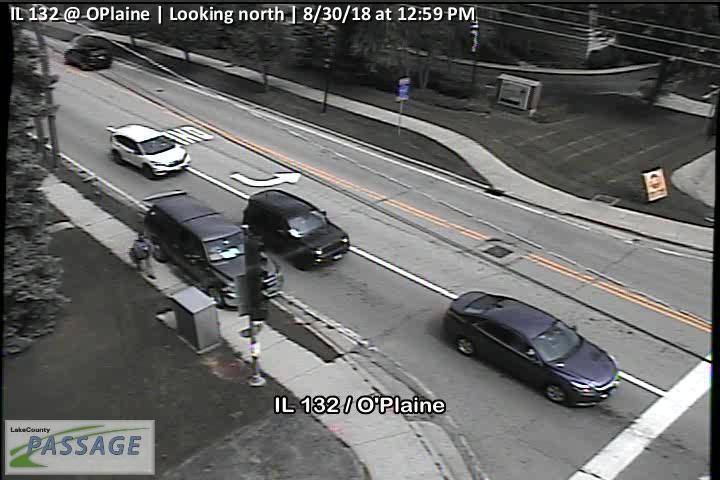SUV: (143, 194, 285, 311), (240, 189, 351, 271), (110, 125, 191, 181), (63, 39, 113, 71)
Sedan: (443, 291, 619, 407)
